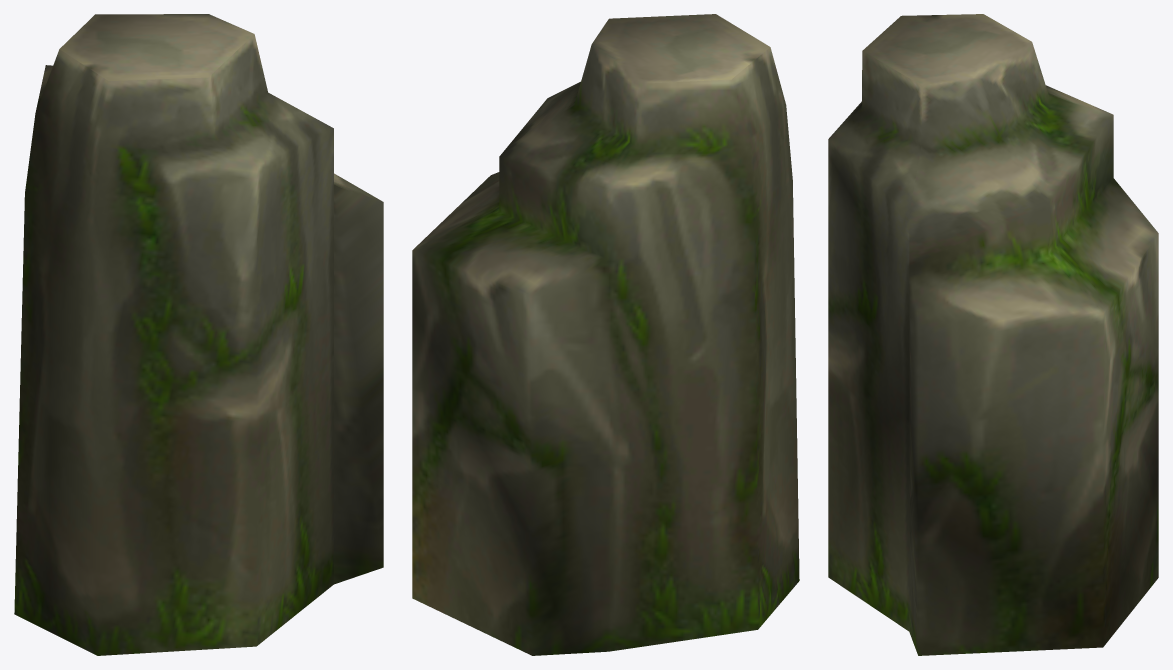
File: RockFormation_4_5 (16).fbx
3 views of the same model, side by side, from view 1: azimuth 30°, elevation 25°; view 2: azimuth 150°, elevation 25°; view 3: azimuth 270°, elevation 25° (orthographic). The views are drawn at different scales.
Parts seen in each view (by area): view 1: RockFormation_4_5 (16); view 2: RockFormation_4_5 (16); view 3: RockFormation_4_5 (16).
Boxes of the visible parts, x1,y1,x2,y2 form: RockFormation_4_5 (16): (14, 14, 383, 655); RockFormation_4_5 (16): (412, 14, 799, 655); RockFormation_4_5 (16): (828, 14, 1158, 655).
Size of the model in its own units: 244 by 403 by 235.
1 material, 1 textured.
